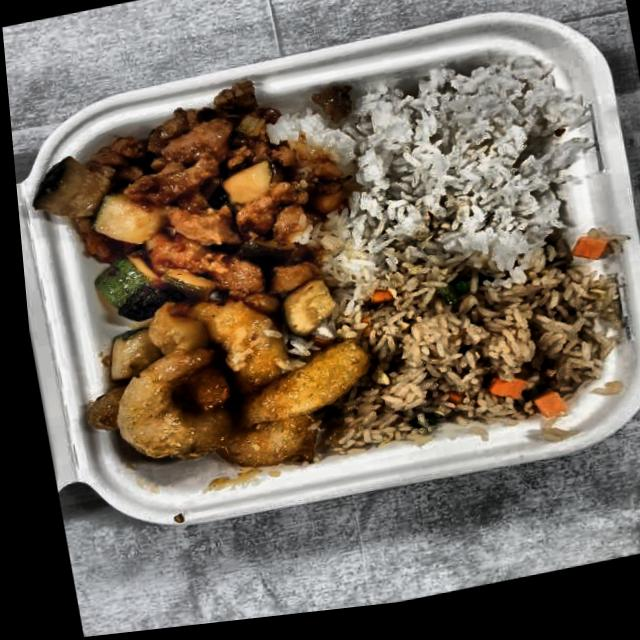Food: (15, 71, 348, 336), (62, 267, 384, 514), (330, 243, 635, 470), (326, 58, 581, 282)
